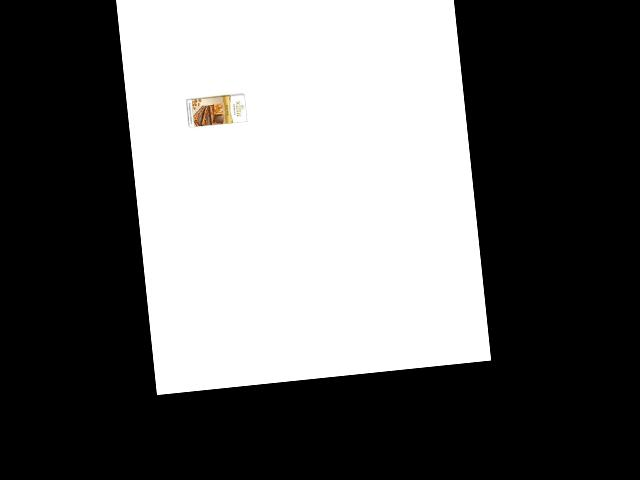chocolate: (182, 81, 251, 133)
